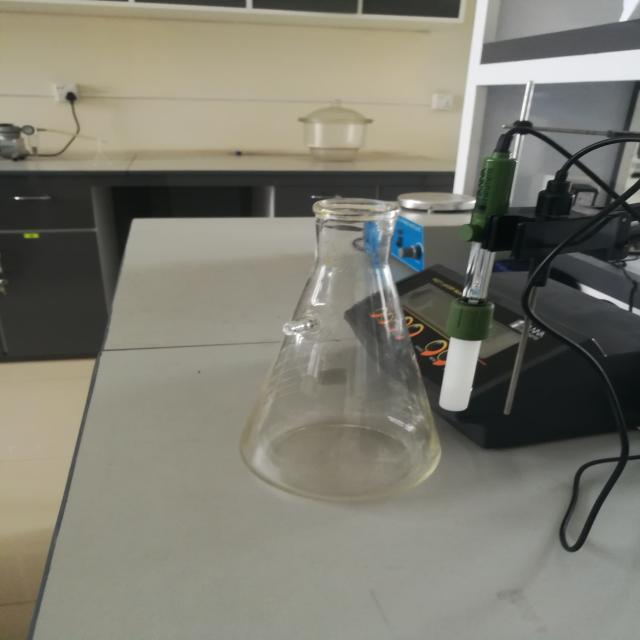Conical_Flask: (211, 168, 490, 525)
